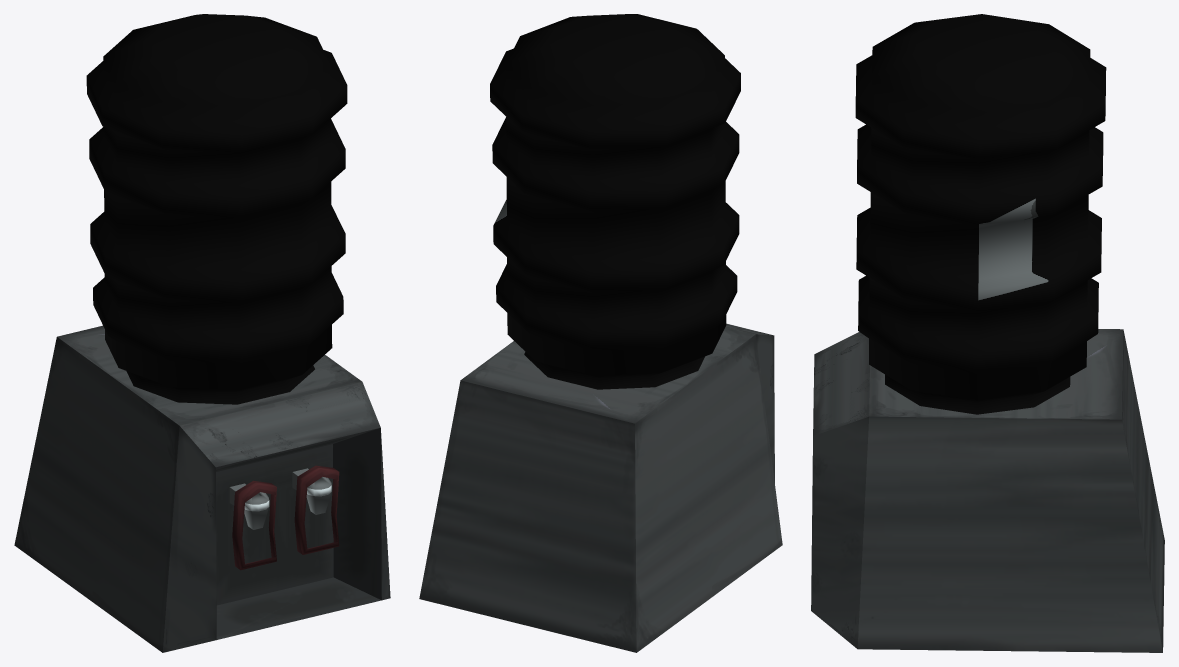
The model's file is CityKit2.fbx_WaterGallon.fbx.
3 renders of one model, left to right at view 1: azimuth 30°, elevation 25°; view 2: azimuth 150°, elevation 25°; view 3: azimuth 270°, elevation 25°, orthographic. The views are drawn at different scales.
Visible parts, largest first — view 1: WaterGallon; view 2: WaterGallon; view 3: WaterGallon.
Boxes of the visible parts, x1=… form: WaterGallon: x1=14, y1=14, x2=390, y2=652; WaterGallon: x1=419, y1=14, x2=782, y2=652; WaterGallon: x1=811, y1=14, x2=1164, y2=652.
Bounding box in the file's own units: 129 × 293 × 170.
Materials: 3 (3 with a texture image).
